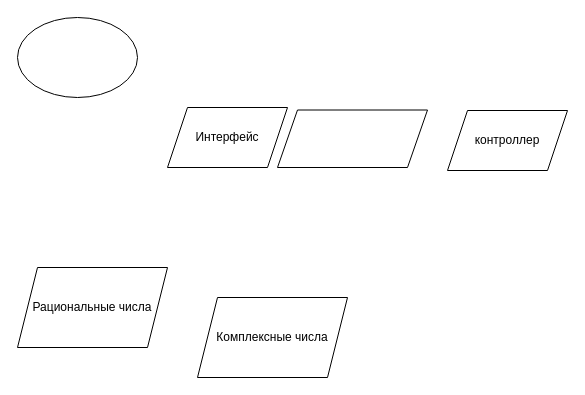
The diagram is 585 pixels wide and 395 high, and some of its shapes have lost their labels. The centre of each missing label's shape, as x and y in pixels:
"Модуль ввода данных" belongs at point (352, 138).
"Старт" belongs at point (77, 57).
